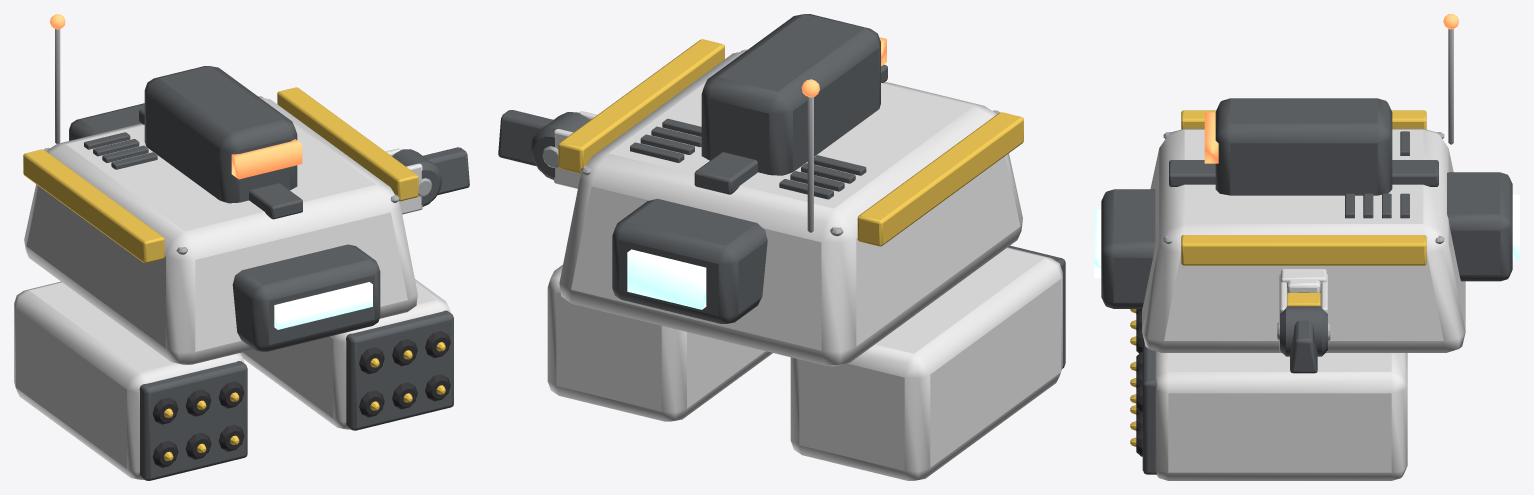
Rendered from missile.glb.
3 views of the same model, side by side, from view 1: azimuth 30°, elevation 25°; view 2: azimuth 150°, elevation 25°; view 3: azimuth 270°, elevation 25° (orthographic). The views are drawn at different scales.
Parts seen in each view (by area): view 1: Hull, Barrel, Turret, LegUpper, LegLower; view 2: Hull, Barrel, Turret, LegUpper, LegLower; view 3: Hull, Barrel, Turret, LegUpper, LegLower.
Part boxes in pixels (<box>): Hull: <box>23,14,418,365</box>; Barrel: <box>14,279,453,480</box>; Turret: <box>144,66,302,203</box>; LegUpper: <box>386,148,441,214</box>; LegLower: <box>423,147,469,195</box>; Hull: <box>558,39,1023,366</box>; Barrel: <box>547,245,1065,480</box>; Turret: <box>701,14,886,175</box>; LegUpper: <box>530,111,596,188</box>; LegLower: <box>498,110,553,166</box>; Hull: <box>1094,14,1519,352</box>; Barrel: <box>1130,309,1407,480</box>; Turret: <box>1204,98,1392,195</box>; LegUpper: <box>1277,269,1330,356</box>; LegLower: <box>1287,280,1320,373</box>.
Bounding box in the file's own units: 0.7655 × 0.6285 × 0.694.
